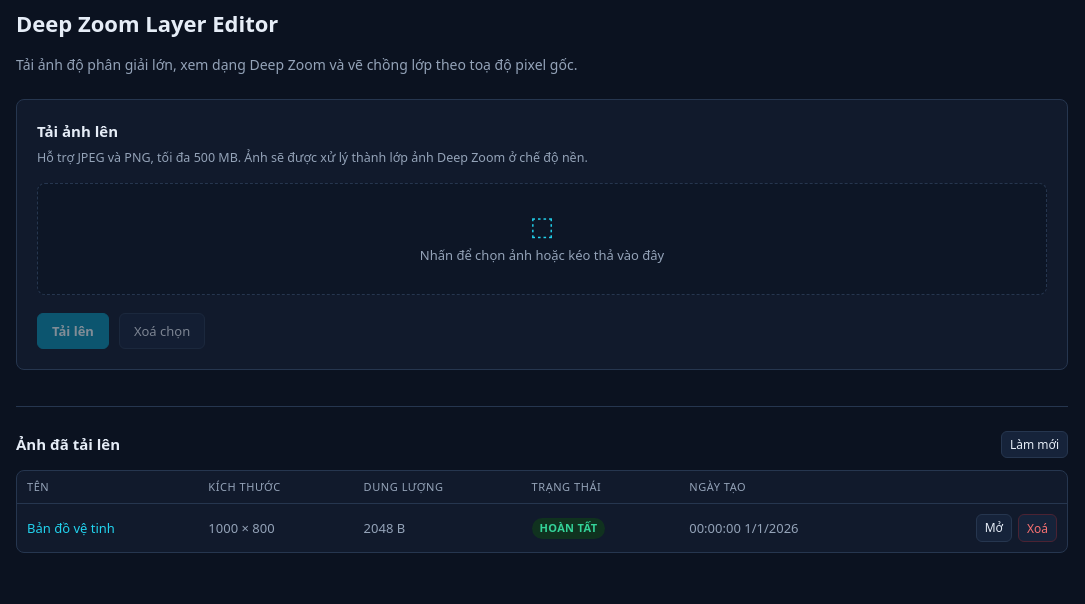
HomePage › shows a generic message when the delete fails unexpectedly
This screenshot has width=1085, height=604.
Click the button with test id "delete-image-1". click: (1038, 528)
box: top-left (1018, 514), bottom-right (1057, 542)
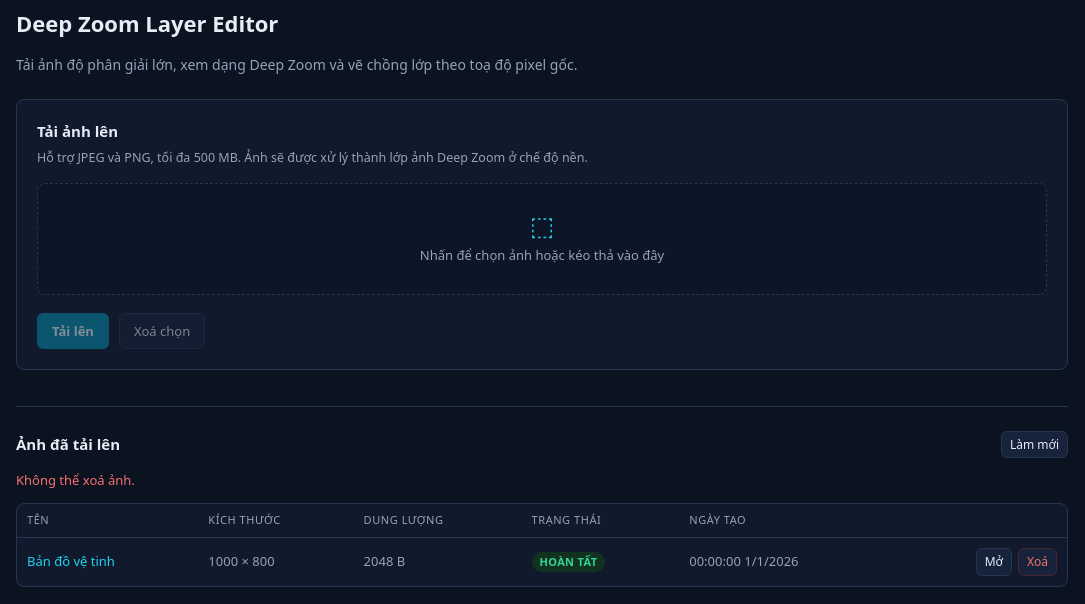
Now the message with test id "list-error" reads "Không thể xoá ảnh.", box top-left (16, 471), bottom-right (135, 489)
